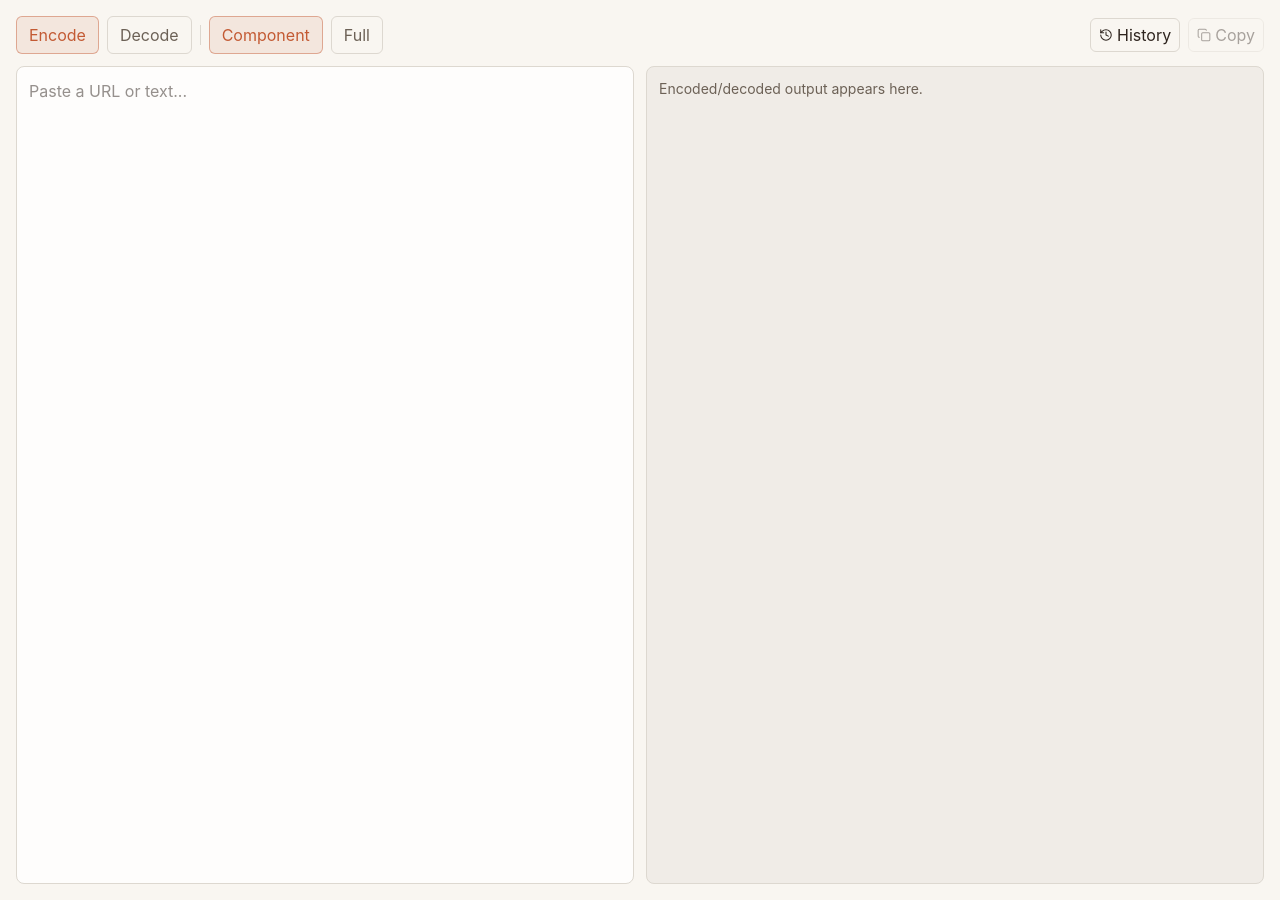
UrlTool › shows query parameters as rows
Type "https://x.com/p?a=1&b=two" into the text box named "URL input" at (325, 475), box [16,66,634,884]
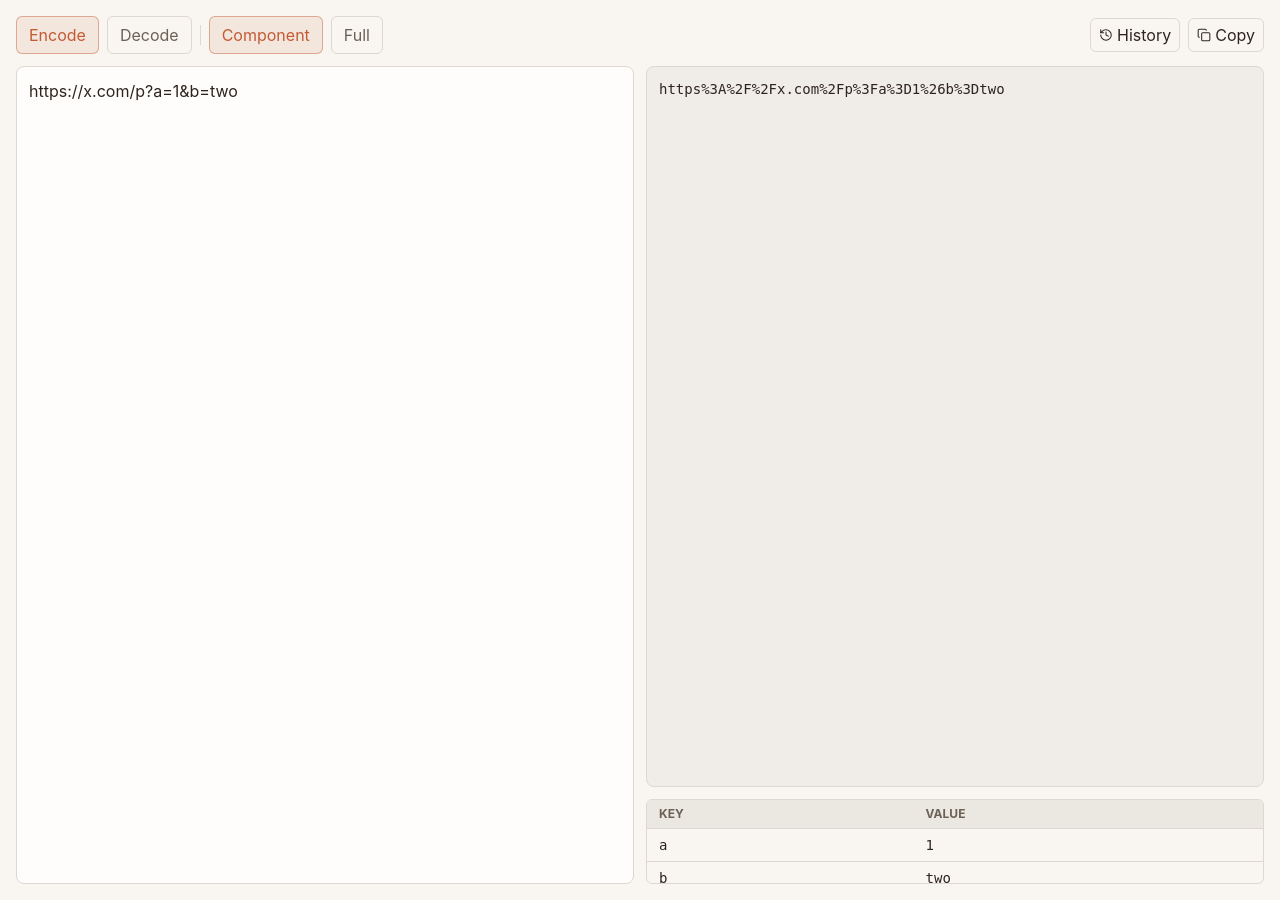
Expected: the text "two" is shown, [914,862,1263,884]
